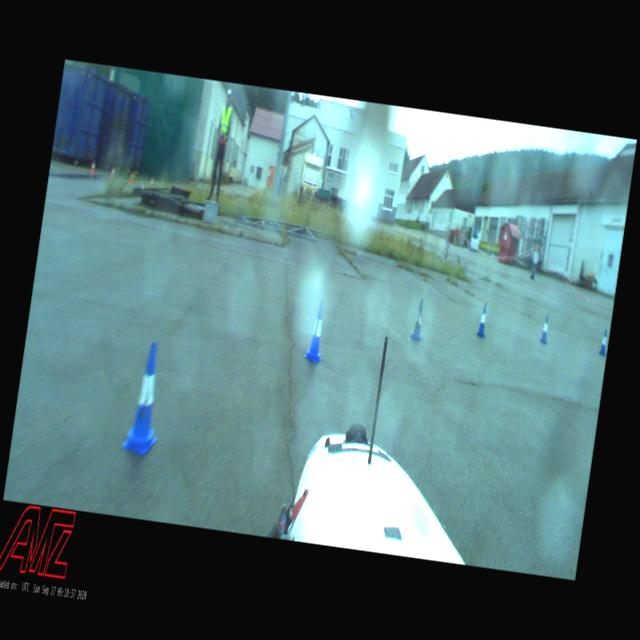blue_cone: (120, 339, 171, 458), (304, 300, 330, 364), (409, 298, 427, 341), (477, 304, 489, 338), (540, 314, 550, 343), (600, 330, 608, 356)
orange_cone: (90, 160, 96, 172), (110, 165, 115, 178), (129, 172, 134, 184), (150, 175, 153, 186)
